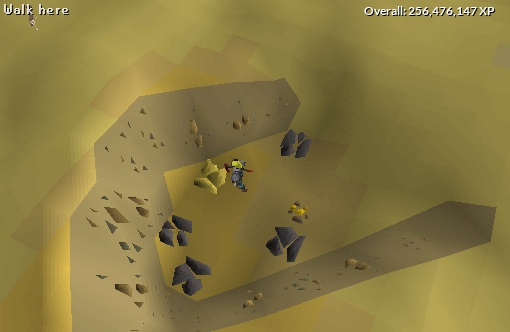depleted: (164, 254, 223, 299), (263, 224, 311, 262), (155, 213, 199, 251), (278, 127, 314, 161)
gold: (190, 157, 231, 194)
